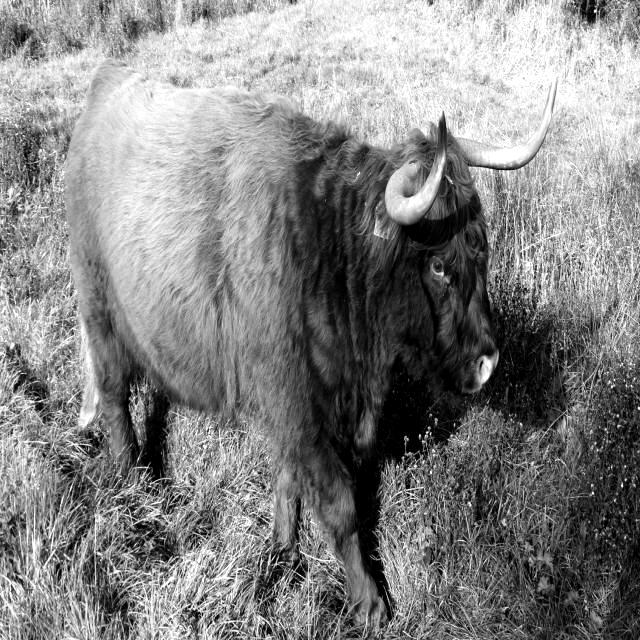COW: (66, 60, 558, 627)
